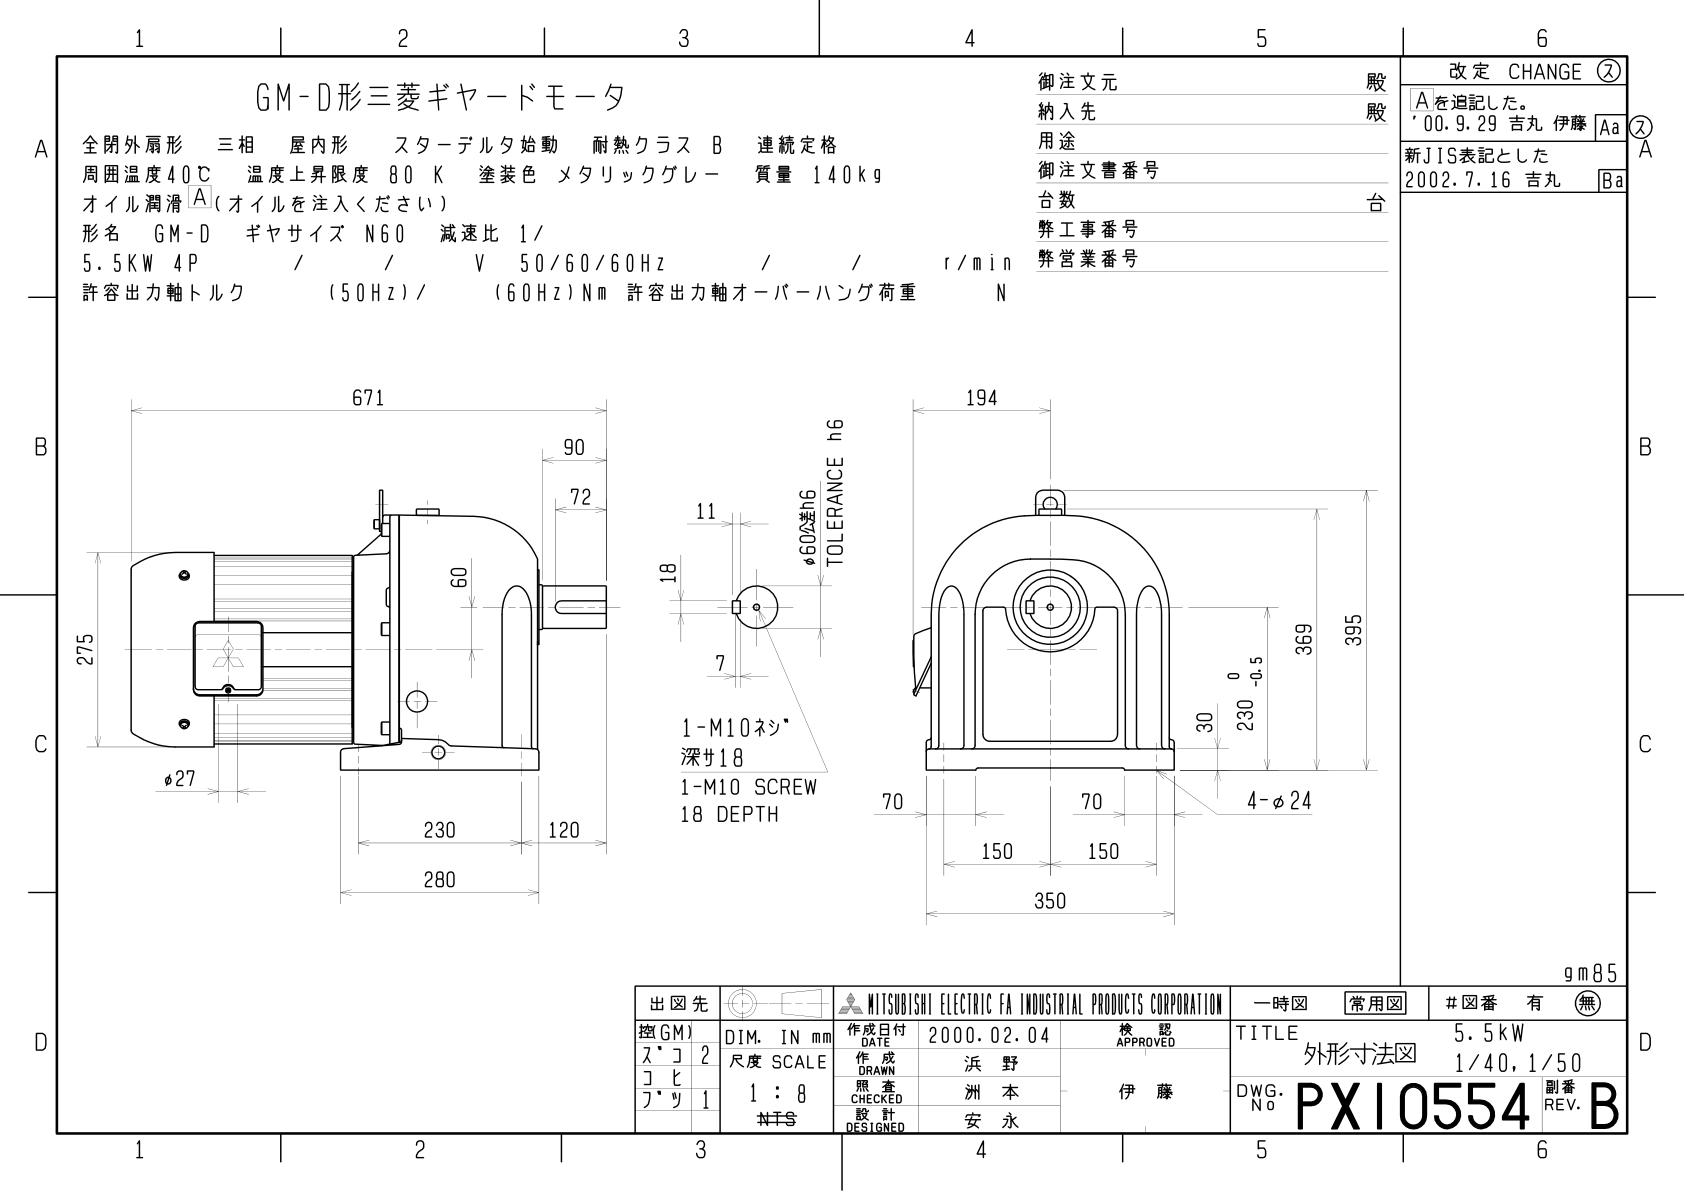GM_D_屋内＿三相_脚: (64, 345, 1385, 973)
